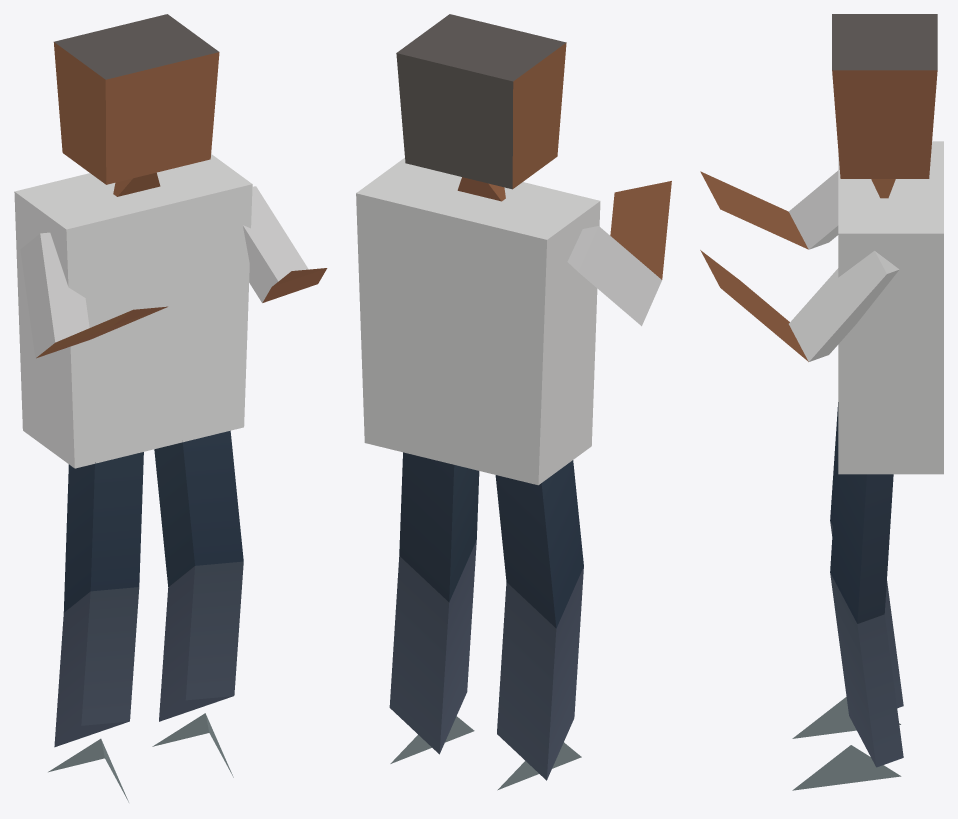
File: fan-12.glb
3 renders of one model, left to right at view 1: azimuth 30°, elevation 25°; view 2: azimuth 150°, elevation 25°; view 3: azimuth 270°, elevation 25°, orthographic. The views are drawn at different scales.
Visible parts, largest first — view 1: fan-12; view 2: fan-12; view 3: fan-12.
Boxes of the visible parts, x1=… form: fan-12: x1=14, y1=14, x2=327, y2=802; fan-12: x1=356, y1=14, x2=671, y2=790; fan-12: x1=700, y1=14, x2=943, y2=790.
Bounding box in the file's own units: 0.7575 × 1.89 × 0.5778.
